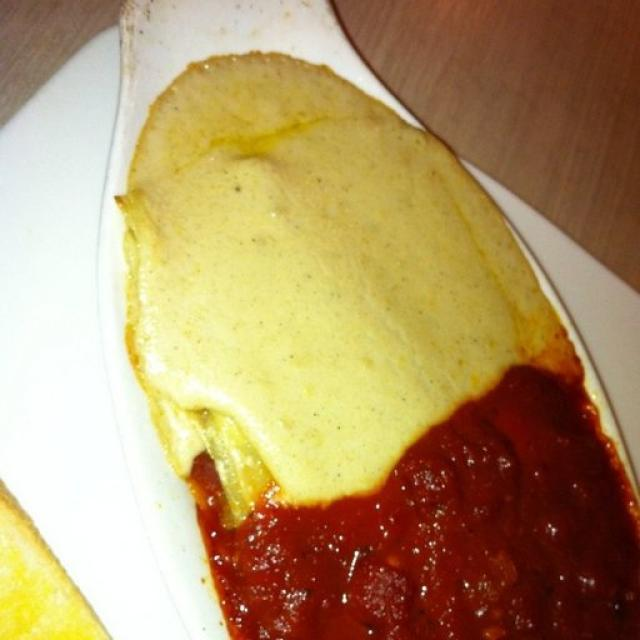Lasagna: (140, 298, 639, 617)
